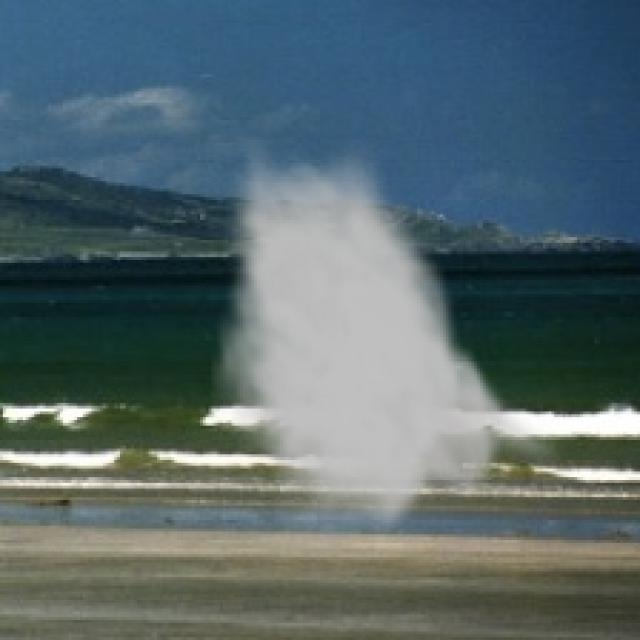smoke: (211, 134, 566, 543)
